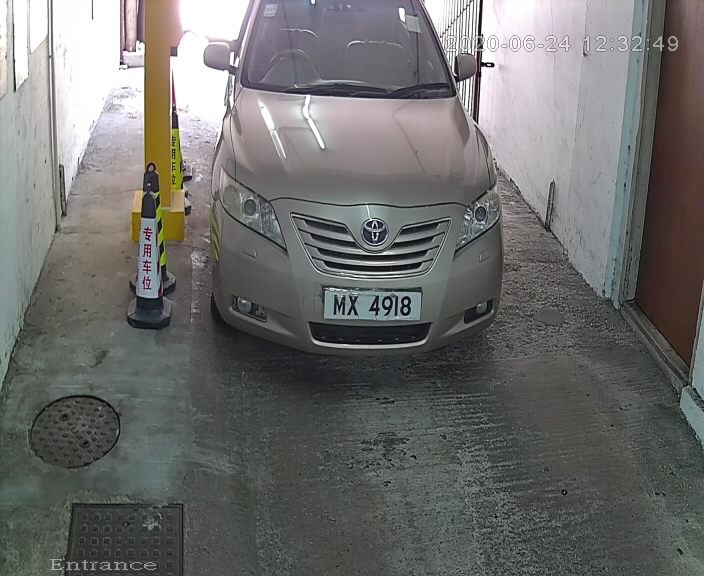Car: (186, 1, 526, 388)
License Plate: (313, 283, 433, 330)
